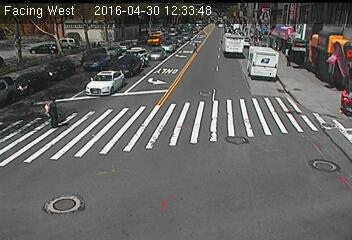neg: (111, 56, 136, 90), (17, 30, 42, 63), (192, 17, 210, 42), (54, 51, 68, 70), (88, 36, 102, 54), (104, 1, 118, 19), (153, 34, 166, 51)
pos: (36, 91, 69, 135), (280, 48, 301, 77)
